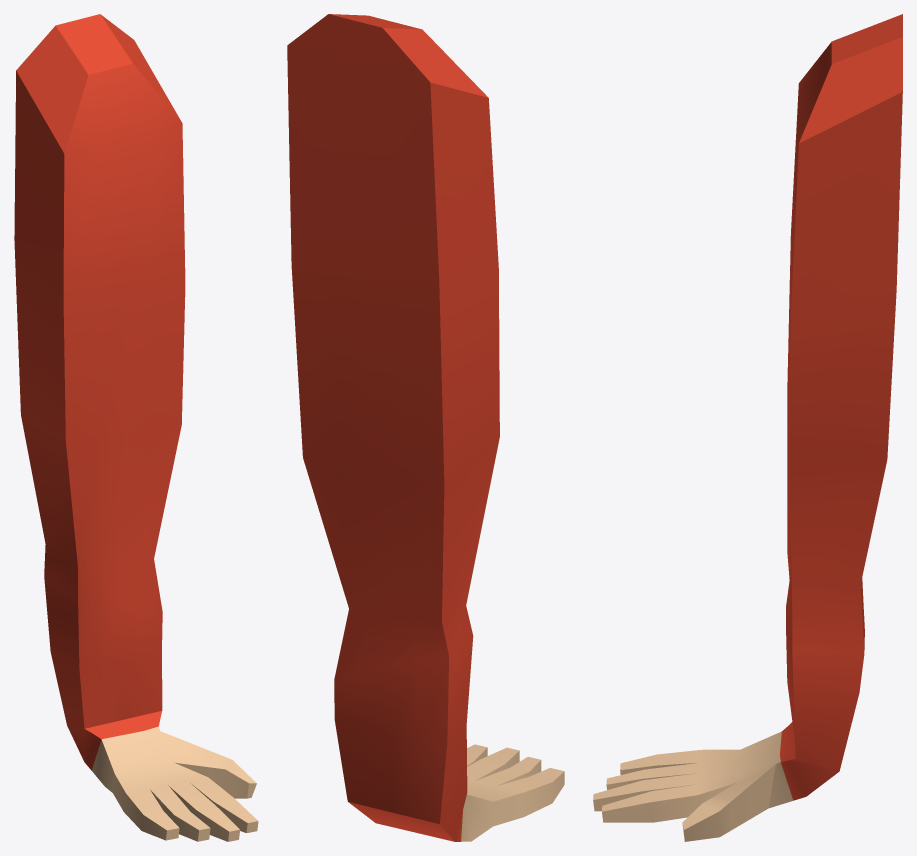
The model's file is arm90red.fbx.
The picture shows the model from 3 angles, left to right: view 1: azimuth 30°, elevation 25°; view 2: azimuth 150°, elevation 25°; view 3: azimuth 270°, elevation 25°; orthographic projection. The views are drawn at different scales.
Parts seen in each view (by area): view 1: Arm90Longer; view 2: Arm90Longer; view 3: Arm90Longer.
Boxes of the visible parts, <box> form: Arm90Longer: <box>14,14,258,841</box>; Arm90Longer: <box>287,14,564,841</box>; Arm90Longer: <box>593,14,902,841</box>.
Bounding box in the file's own units: 342 × 1645 × 592.
